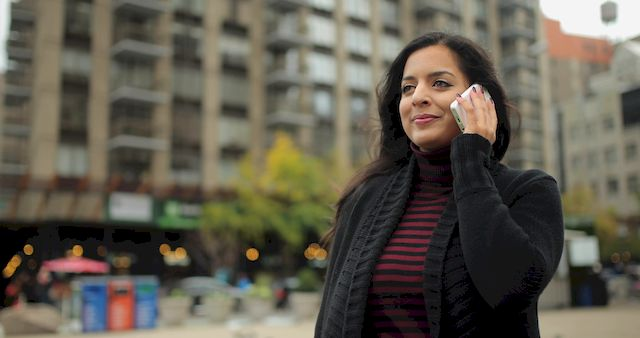phone: (454, 84, 491, 127)
talk: (398, 71, 504, 148)
